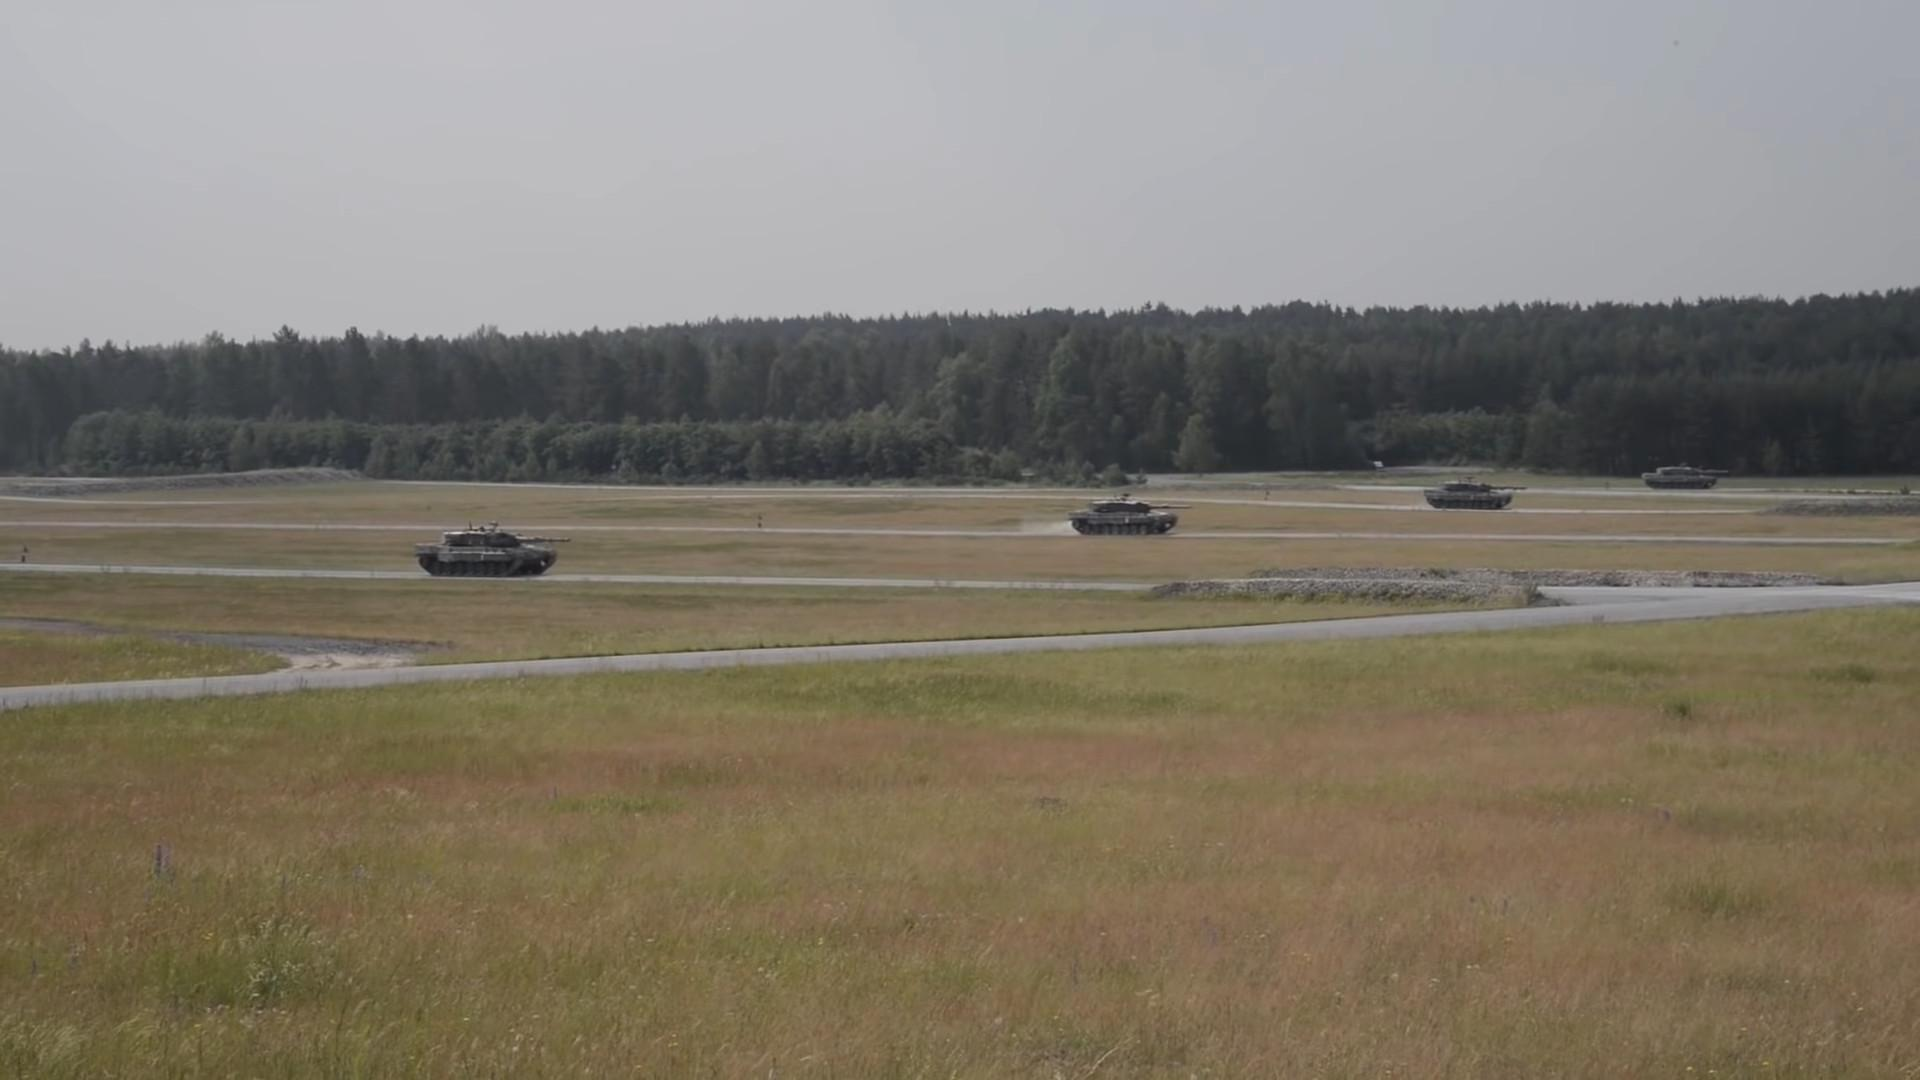tank: (415, 531, 570, 576), (1068, 501, 1192, 535), (1424, 483, 1527, 509), (1643, 468, 1729, 489)
